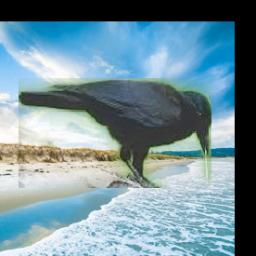Crow: (19, 78, 211, 188)
